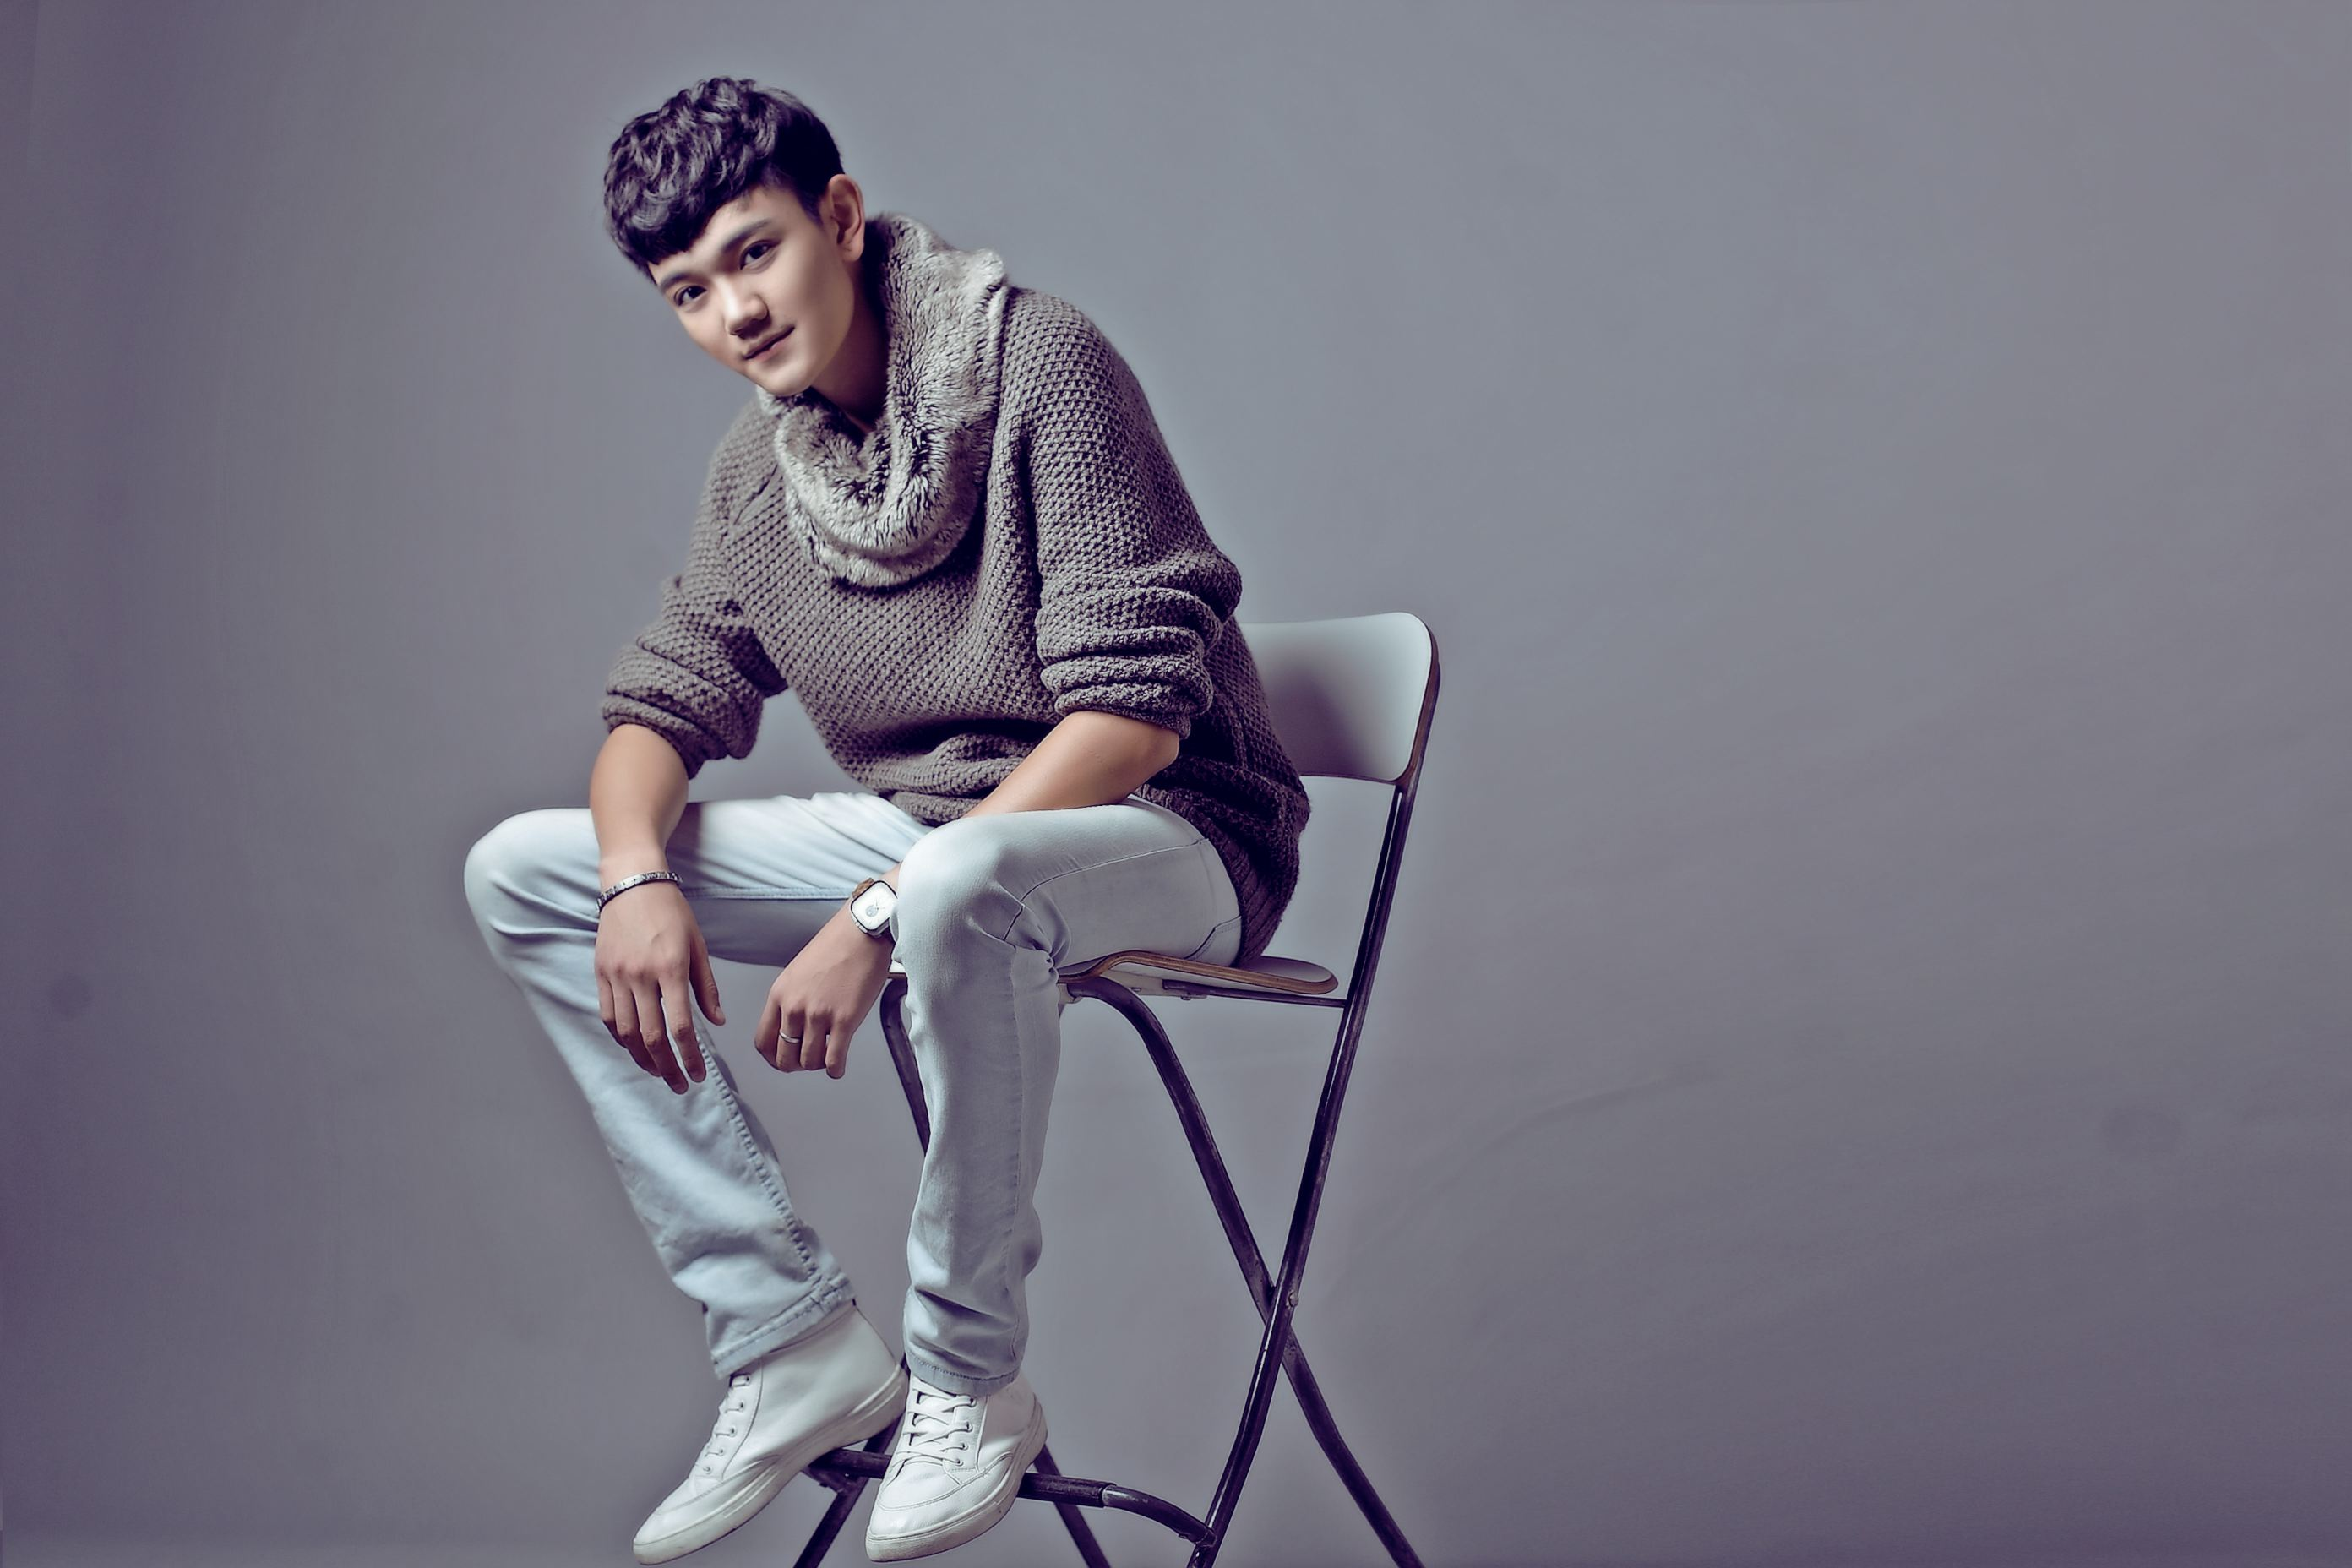person: (346, 69, 1313, 1392)
